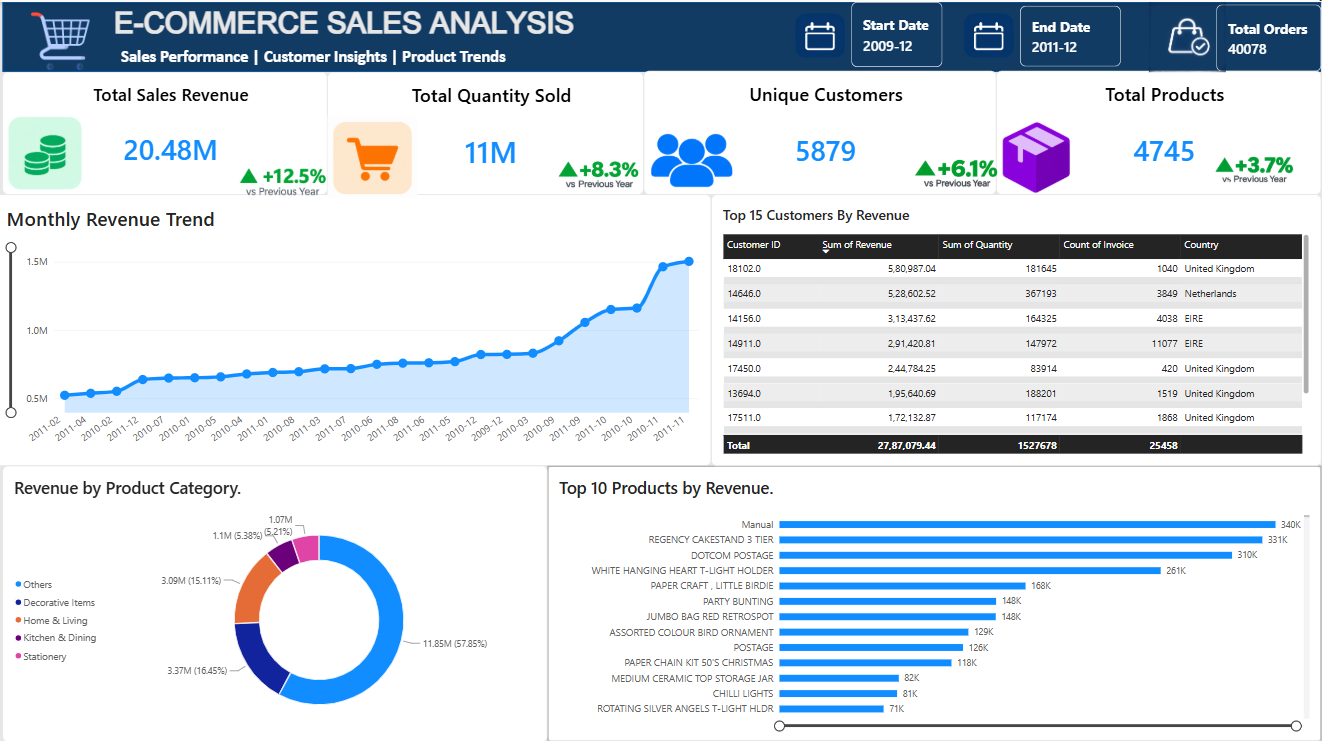

What the dashboard file says about the page in this screenshot:
{"tool":"powerbi","page":{"name":"Page 1","canvas":[1920,1080],"ordinal":0},"visuals":[{"type":"shape","box":[10.9,0,1909.2,101.3],"z":0},{"type":"textbox","box":[10.2,0,861.2,85.7],"z":1000},{"type":"textbox","box":[10.2,57.1,771.4,42.9],"z":2000},{"type":"image","box":[28.6,14.3,130.6,85],"z":3000},{"type":"card","title":"Total Sales Revenue","fields":{"Values":["Sum(ecommerce_sales_db ecommerce_sales_staging.Revenue)"]},"box":[10.9,101.3,470.5,177.3],"z":4000},{"type":"card","title":"Total Quantity Sold","fields":{"Values":["Sum(ecommerce_sales_db ecommerce_sales_staging.Quantity)"]},"box":[481.4,101.3,457.8,177.3],"z":5000},{"type":"card","title":"Unique Customers","fields":{"Values":["Count(ecommerce_sales_db ecommerce_sales_staging.Customer ID)"]},"box":[939.2,99.5,510.3,179.2],"z":6000},{"type":"card","title":"Total Products","fields":{"Values":["Count(ecommerce_sales_db ecommerce_sales_staging.StockCode)"]},"box":[1449.5,99.5,470.5,179.2],"z":7000},{"type":"lineChart","title":"Monthly Revenue Trend","fields":{"Category":["ecommerce_sales_db ecommerce_sales_staging.YearMonth"],"Y":["Sum(ecommerce_sales_db ecommerce_sales_staging.Revenue)"]},"box":[0,278.7,1036.9,392.7],"z":8000},{"type":"clusteredBarChart","title":"Top 10 Products by Revenue.","fields":{"Category":["ecommerce_sales_db ecommerce_sales_staging.Description"],"Y":["Sum(ecommerce_sales_db ecommerce_sales_staging.Revenue)"]},"box":[799.9,671.4,1120.2,399.9],"z":9000},{"type":"donutChart","title":"Revenue by Product Category.","fields":{"Category":["ecommerce_sales_db ecommerce_sales_staging.Product Category"],"Y":["Sum(ecommerce_sales_db ecommerce_sales_staging.Revenue)"]},"box":[10.9,671.4,789,399.9],"z":10000},{"type":"cardVisual","fields":{"Data":["ecommerce_sales_db ecommerce_sales_staging.Start Date"]},"box":[1239.6,0,132.1,94.1],"z":11000},{"type":"cardVisual","fields":{"Data":["ecommerce_sales_db ecommerce_sales_staging.End Date"]},"box":[1483.9,5.4,146.6,88.7],"z":12000},{"type":"cardVisual","fields":{"Data":["ecommerce_sales_db ecommerce_sales_staging.Total Orders"]},"box":[1768,3.6,152,97.7],"z":13000},{"type":"image","box":[1149.1,5.4,90.5,83.2],"z":14000},{"type":"image","box":[1393.4,5.4,90.5,83.2],"z":15000},{"type":"image","box":[1630.5,0,191.8,101.3],"z":16000},{"type":"image","box":[481.4,157.4,130.3,135.7],"z":17000},{"type":"image","box":[0,157.4,144.8,121.2],"z":18000},{"type":"image","box":[939.2,144.8,139.3,162.9],"z":19000},{"type":"image","box":[1438.7,144.8,137.5,153.8],"z":20000},{"type":"image","box":[282.3,157.4,264.2,191.8],"z":21000},{"type":"image","box":[781.8,190,195.4,126.7],"z":22000},{"type":"image","box":[1265,186.4,219,135.7],"z":23000},{"type":"image","box":[1726.4,177.3,193.6,121.2],"z":24000},{"type":"tableEx","title":"Top 15 Customers By Revenue","fields":{"Values":["ecommerce_sales_db ecommerce_sales_staging.Customer ID","Sum(ecommerce_sales_db ecommerce_sales_staging.Revenue)","Sum(ecommerce_sales_db ecommerce_sales_staging.Quantity)","ecommerce_sales_db ecommerce_sales_staging.Invoice","ecommerce_sales_db ecommerce_sales_staging.Country"]},"box":[1036.9,278.7,883.1,392.7],"z":25000}]}

Visuals, with their boxes in screenshot pixels (x1, y1, x2, y2), scaled from the page's 1920x1080 canvas onto the 1322x741 screenshot:
shape: {"x1": 8, "y1": 0, "x2": 1321, "y2": 70}
textbox: {"x1": 7, "y1": 0, "x2": 600, "y2": 59}
textbox: {"x1": 7, "y1": 39, "x2": 538, "y2": 69}
image: {"x1": 20, "y1": 10, "x2": 110, "y2": 68}
"Total Sales Revenue" card: {"x1": 8, "y1": 70, "x2": 331, "y2": 191}
"Total Quantity Sold" card: {"x1": 331, "y1": 70, "x2": 647, "y2": 191}
"Unique Customers" card: {"x1": 647, "y1": 68, "x2": 998, "y2": 191}
"Total Products" card: {"x1": 998, "y1": 68, "x2": 1321, "y2": 191}
"Monthly Revenue Trend" lineChart: {"x1": 0, "y1": 191, "x2": 714, "y2": 461}
"Top 10 Products by Revenue." clusteredBarChart: {"x1": 551, "y1": 461, "x2": 1321, "y2": 735}
"Revenue by Product Category." donutChart: {"x1": 8, "y1": 461, "x2": 551, "y2": 735}
cardVisual - ecommerce_sales_db ecommerce_sales_staging.Start Date: {"x1": 854, "y1": 0, "x2": 944, "y2": 65}
cardVisual - ecommerce_sales_db ecommerce_sales_staging.End Date: {"x1": 1022, "y1": 4, "x2": 1123, "y2": 65}
cardVisual - ecommerce_sales_db ecommerce_sales_staging.Total Orders: {"x1": 1217, "y1": 2, "x2": 1321, "y2": 70}
image: {"x1": 791, "y1": 4, "x2": 854, "y2": 61}
image: {"x1": 959, "y1": 4, "x2": 1022, "y2": 61}
image: {"x1": 1123, "y1": 0, "x2": 1255, "y2": 70}
image: {"x1": 331, "y1": 108, "x2": 421, "y2": 201}
image: {"x1": 0, "y1": 108, "x2": 100, "y2": 191}
image: {"x1": 647, "y1": 99, "x2": 743, "y2": 211}
image: {"x1": 991, "y1": 99, "x2": 1085, "y2": 205}
image: {"x1": 194, "y1": 108, "x2": 376, "y2": 240}
image: {"x1": 538, "y1": 130, "x2": 673, "y2": 217}
image: {"x1": 871, "y1": 128, "x2": 1022, "y2": 221}
image: {"x1": 1189, "y1": 122, "x2": 1321, "y2": 205}
"Top 15 Customers By Revenue" tableEx: {"x1": 714, "y1": 191, "x2": 1321, "y2": 461}
